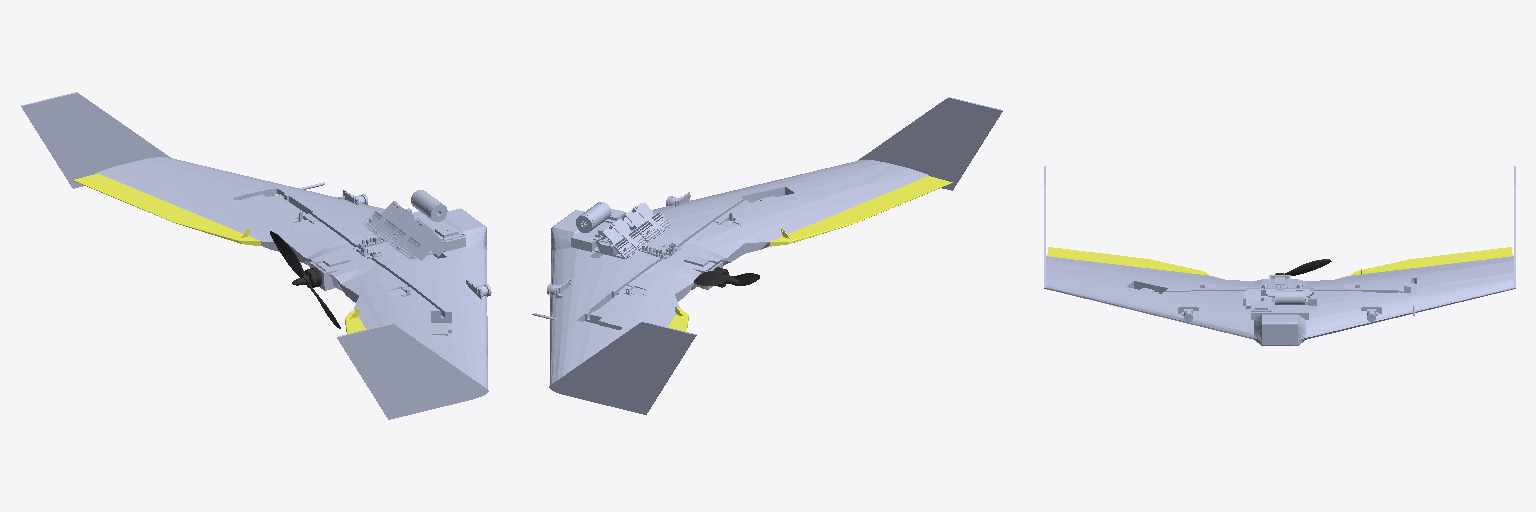
URDF robot description (TBSC_assembly_urdf2):
<robot
  name="TBSC_assembly_urdf2">
  <link
    name="fuselage">
    <inertial>
      <origin
        xyz="-0.0349593479683926 0.000331878148872666 0.00735412367732659"
        rpy="0 0 0" />
      <mass
        value="4.1575909457638" />
      <inertia
        ixx="0.185818182108609"
        ixy="-1.52327104962265E-05"
        ixz="-0.000130769919432325"
        iyy="0.0280372247689657"
        iyz="2.88471517246179E-05"
        izz="0.21190998352649" />
    </inertial>
    <visual>
      <origin
        xyz="0 0 0"
        rpy="0 0 0" />
      <geometry>
        <mesh
          filename="package://TBSC_assembly_urdf2/meshes/fuselage.STL" />
      </geometry>
      <material
        name="">
        <color
          rgba="0.792156862745098 0.819607843137255 0.933333333333333 1" />
      </material>
    </visual>
    <collision>
      <origin
        xyz="0 0 0"
        rpy="0 0 0" />
      <geometry>
        <mesh
          filename="package://TBSC_assembly_urdf2/meshes/fuselage.STL" />
      </geometry>
    </collision>
  </link>
  <link
    name="elevon_left">
    <inertial>
      <origin
        xyz="0.024344339111363 -0.141166243498112 -0.00288253217183636"
        rpy="0 0 0" />
      <mass
        value="0.0503004723155847" />
      <inertia
        ixx="0.000343597911973611"
        ixy="-0.000102664149700067"
        ixz="-6.90528659264952E-07"
        iyy="3.60866683189305E-05"
        iyz="1.09517497875865E-06"
        izz="0.000379357807788057" />
    </inertial>
    <visual>
      <origin
        xyz="0 0 0"
        rpy="0 0 0" />
      <geometry>
        <mesh
          filename="package://TBSC_assembly_urdf2/meshes/elevon_left.STL" />
      </geometry>
      <material
        name="">
        <color
          rgba="0.984313725490196 1 0.396078431372549 1" />
      </material>
    </visual>
    <collision>
      <origin
        xyz="0 0 0"
        rpy="0 0 0" />
      <geometry>
        <mesh
          filename="package://TBSC_assembly_urdf2/meshes/elevon_left.STL" />
      </geometry>
    </collision>
  </link>
  <joint
    name="elevon_left_joint"
    type="continuous">
    <origin
      xyz="-0.210562403107095 0.432529057549488 0.00894564087052806"
      rpy="0 0 0" />
    <parent
      link="fuselage" />
    <child
      link="elevon_left" />
    <axis
      xyz="0.269605075946737 -0.962969468705352 -0.00170451315242792" />
  </joint>
  <link
    name="elevon_right">
    <inertial>
      <origin
        xyz="0.0243440261415946 0.141164212702591 -0.00288253292872706"
        rpy="0 0 0" />
      <mass
        value="0.0503002638510725" />
      <inertia
        ixx="0.000343571434892376"
        ixy="0.00010265713905529"
        ixz="-6.9065341731454E-07"
        iyy="3.60848909803359E-05"
        iyz="-1.09580927322365E-06"
        izz="0.000379329545353445" />
    </inertial>
    <visual>
      <origin
        xyz="0 0 0"
        rpy="0 0 0" />
      <geometry>
        <mesh
          filename="package://TBSC_assembly_urdf2/meshes/elevon_right.STL" />
      </geometry>
      <material
        name="">
        <color
          rgba="0.984313725490196 1 0.396078431372549 1" />
      </material>
    </visual>
    <collision>
      <origin
        xyz="0 0 0"
        rpy="0 0 0" />
      <geometry>
        <mesh
          filename="package://TBSC_assembly_urdf2/meshes/elevon_right.STL" />
      </geometry>
    </collision>
  </link>
  <joint
    name="elevon_right_joint"
    type="continuous">
    <origin
      xyz="-0.210544761310034 -0.432466044967559 0.00894552933457845"
      rpy="0 0 0" />
    <parent
      link="fuselage" />
    <child
      link="elevon_right" />
    <axis
      xyz="0.269605075946737 0.962969468705352 -0.00170451315242805" />
  </joint>
  <link
    name="prop">
    <inertial>
      <origin
        xyz="0.0264162284363671 -2.37906025566202E-08 0.000889743516961591"
        rpy="0 0 0" />
      <mass
        value="0.0158470003258417" />
      <inertia
        ixx="1.93910826369342E-05"
        ixy="-2.23597460424788E-07"
        ixz="-8.44849023246399E-08"
        iyy="4.12864895753647E-06"
        iyz="6.63862731853831E-06"
        izz="1.68855842079905E-05" />
    </inertial>
    <visual>
      <origin
        xyz="0 0 0"
        rpy="0 0 0" />
      <geometry>
        <mesh
          filename="package://TBSC_assembly_urdf2/meshes/prop.STL" />
      </geometry>
      <material
        name="">
        <color
          rgba="0.250980392156863 0.250980392156863 0.250980392156863 1" />
      </material>
    </visual>
    <collision>
      <origin
        xyz="0 0 0"
        rpy="0 0 0" />
      <geometry>
        <mesh
          filename="package://TBSC_assembly_urdf2/meshes/prop.STL" />
      </geometry>
    </collision>
  </link>
  <joint
    name="prop_joint"
    type="continuous">
    <origin
      xyz="-0.149722346596616 0 0.00118718550304035"
      rpy="0 0 0" />
    <parent
      link="fuselage" />
    <child
      link="prop" />
    <axis
      xyz="0.999433245959699 0 0.0336628410931187" />
  </joint>
</robot>

--- Facts derived from the render (not from the file) ---
3 views of the same robot in one strip: view 1: azimuth 30°, elevation 25°; view 2: azimuth 150°, elevation 25°; view 3: azimuth 270°, elevation 25° (orthographic).
Robot: TBSC_assembly_urdf2 — 4 links, 3 joints (3 continuous); root link fuselage; default pose: all joints at 0.
Visible links, largest first — view 1: fuselage, elevon_left, prop; view 2: fuselage, elevon_right, prop; view 3: fuselage, elevon_left, elevon_right.
Boxes of the visible links, x1,y1,x2,y2 form: fuselage: (21,92,491,419); elevon_left: (73,173,260,245); prop: (270,231,340,328); fuselage: (532,97,1002,414); elevon_right: (770,176,952,246); prop: (694,267,759,287); fuselage: (1044,166,1515,345); elevon_left: (1350,247,1512,275); elevon_right: (1047,247,1209,275).
Size in the robot's own frame: 0.4721 by 0.8753 by 0.1745 metres.
Meshes: 4 distinct files referenced, 4 mesh visuals loaded (4 binary STL).